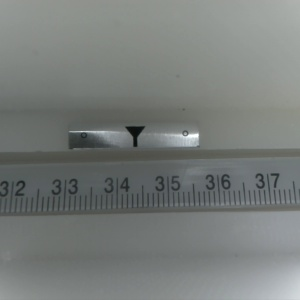2: (15, 181, 26, 196)
3: (254, 173, 265, 189), (50, 179, 61, 195), (103, 177, 113, 194), (154, 176, 164, 192), (205, 175, 215, 190), (67, 179, 77, 194), (0, 181, 9, 197)
4: (119, 177, 129, 192)
5: (170, 176, 180, 191)
6: (220, 174, 230, 189)
7: (269, 173, 280, 188)
finger: (123, 126, 145, 149)
